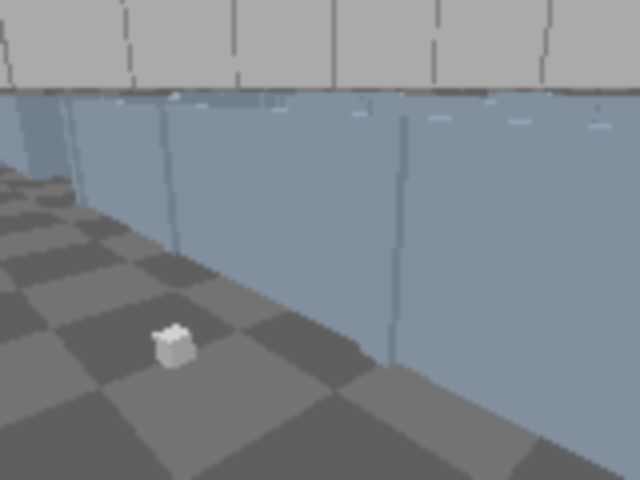puck: (153, 324, 195, 371)
